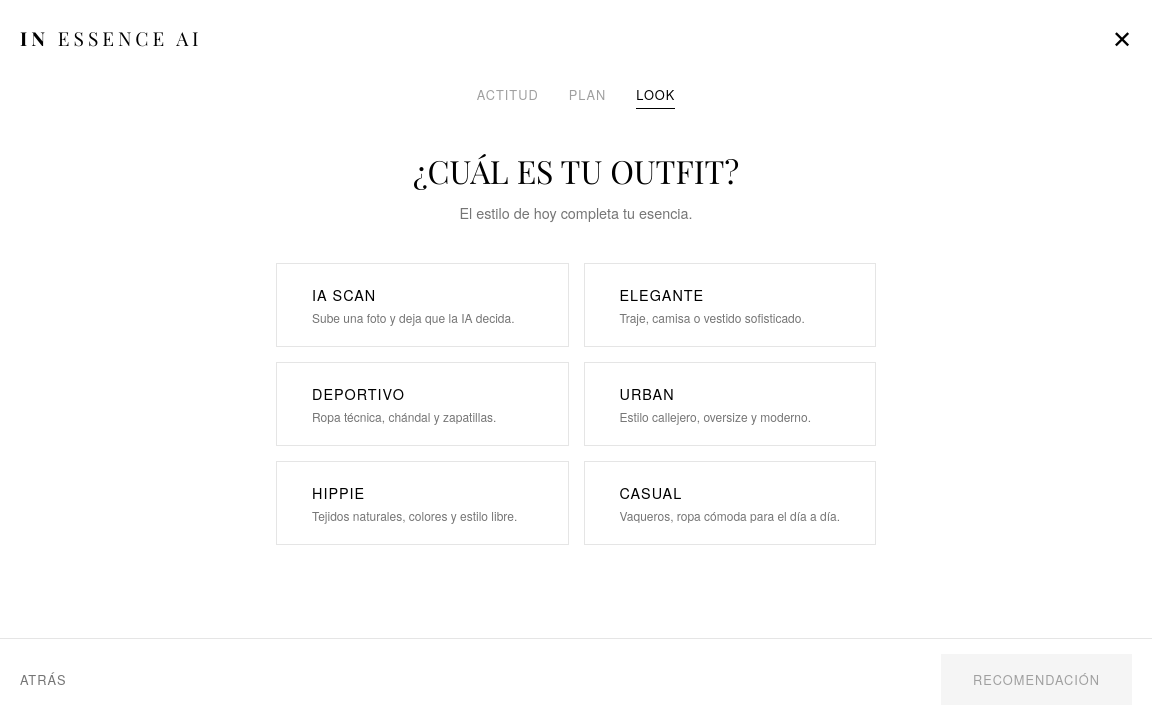
Scenario: ViewLookAnalysis - Flujo Completo con Carrusel y Errores › Flujo Carrusel + Error de Red › muestra carrusel durante carga y luego error de conexión
Step 1. Click the text "HIPPIE" → (339, 492), box [312, 482, 365, 503]
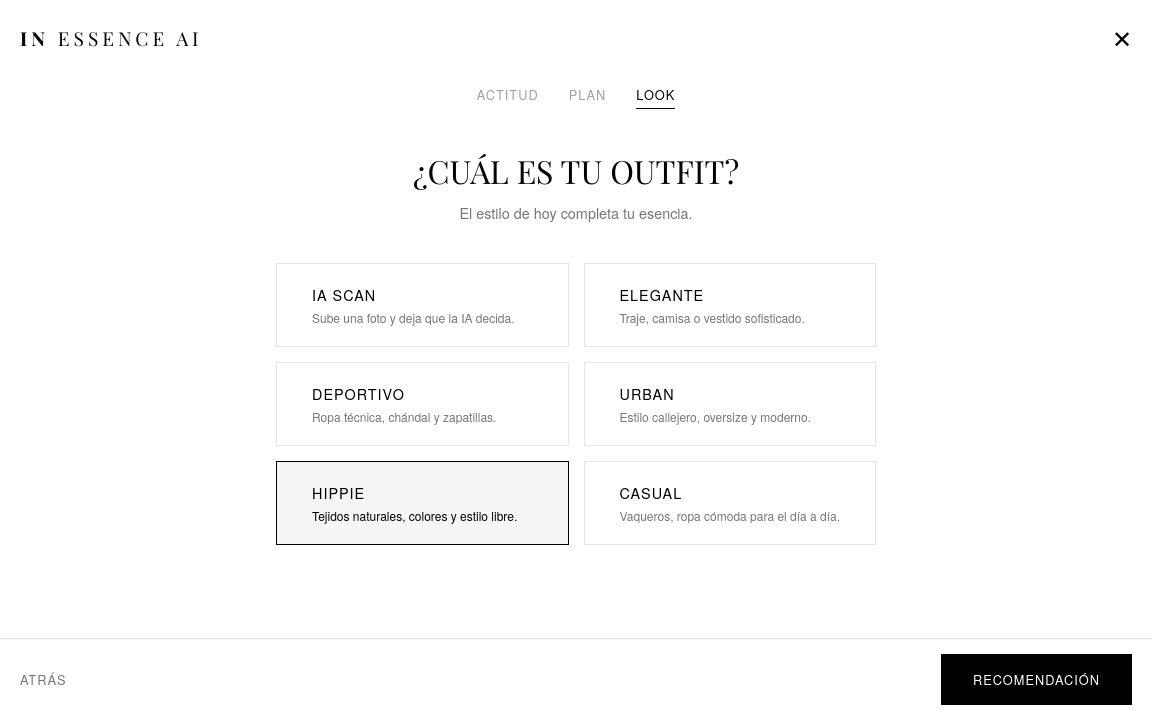
Step 2. Click the button "RECOMENDACIÓN" → (1036, 680), box [941, 654, 1132, 705]
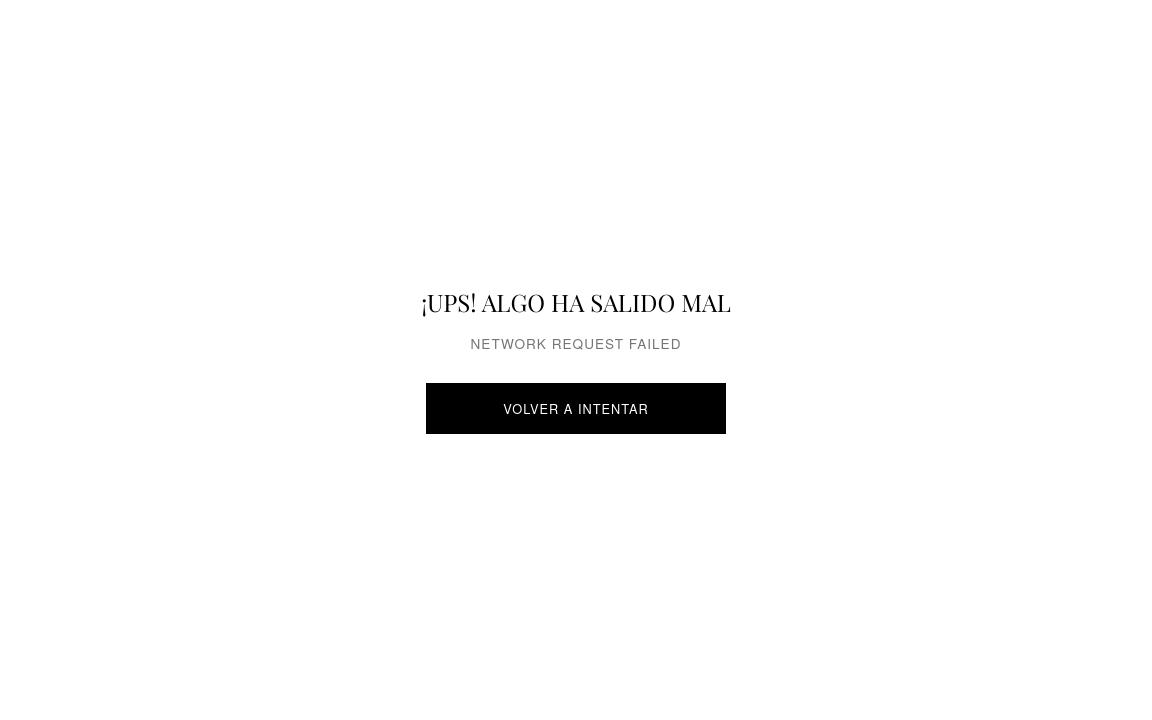
Check: the heading "¡UPS! ALGO HA SALIDO MAL" is shown, box [421, 286, 731, 318]
Check: the text "Network request failed" is shown, box [470, 333, 681, 353]
